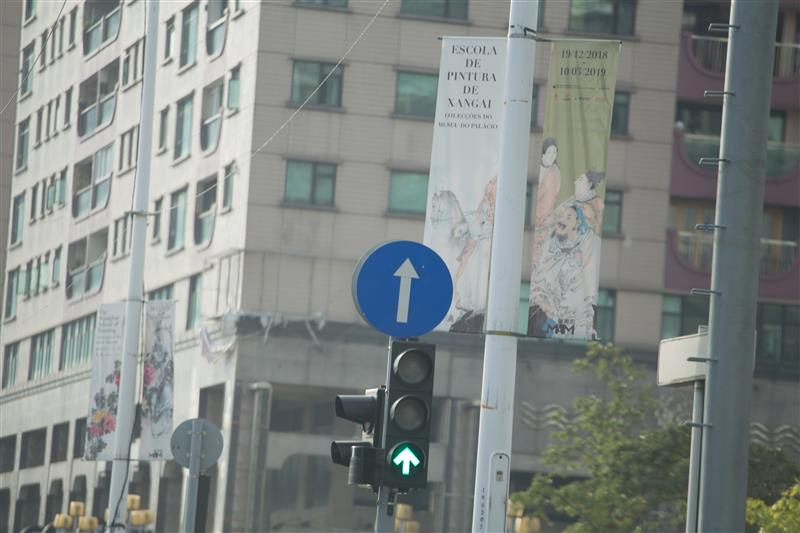straightOnly: (350, 238, 453, 341)
